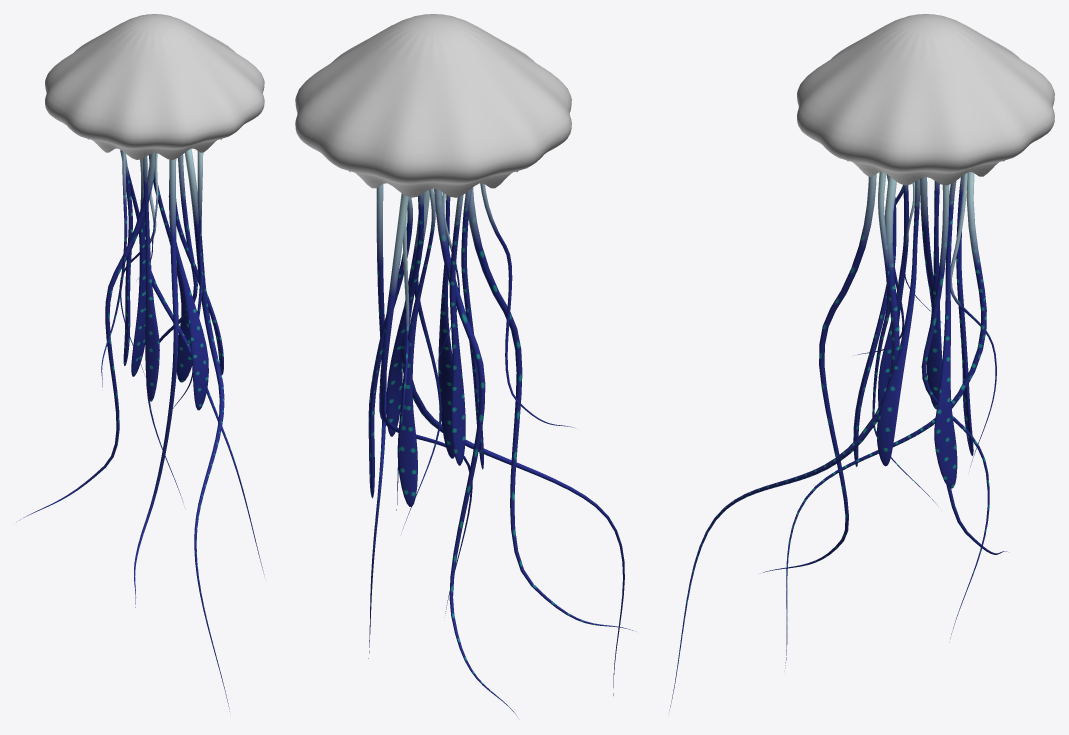
The model's file is YVR_jellyfish.fbx.
The picture shows the model from 3 angles, left to right: view 1: azimuth 30°, elevation 25°; view 2: azimuth 150°, elevation 25°; view 3: azimuth 270°, elevation 25°; orthographic projection. The views are drawn at different scales.
Visible parts, largest first — view 1: polySurface72; view 2: polySurface72; view 3: polySurface72.
Part boxes in pixels (x1,y1,x2,y2): polySurface72: (19,14,264,711); polySurface72: (295,14,633,718); polySurface72: (669,14,1054,710).
Bounding box in the file's own units: 29.83 × 87.39 × 42.66.
